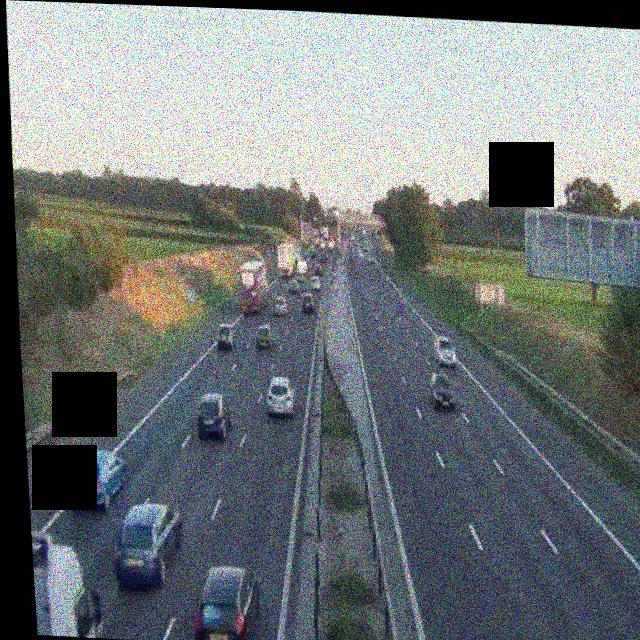car: (110, 499, 186, 590), (190, 563, 260, 640), (65, 447, 128, 511), (194, 390, 234, 440), (264, 376, 296, 416), (428, 371, 456, 410), (432, 333, 457, 366), (214, 321, 236, 350), (254, 324, 274, 349), (272, 293, 287, 314), (299, 291, 314, 312), (288, 277, 301, 291), (309, 275, 319, 289), (638, 580, 640, 640), (317, 256, 326, 269), (367, 252, 375, 263), (348, 249, 355, 261)
truck: (29, 488, 106, 638), (237, 257, 270, 314), (274, 239, 299, 279)
